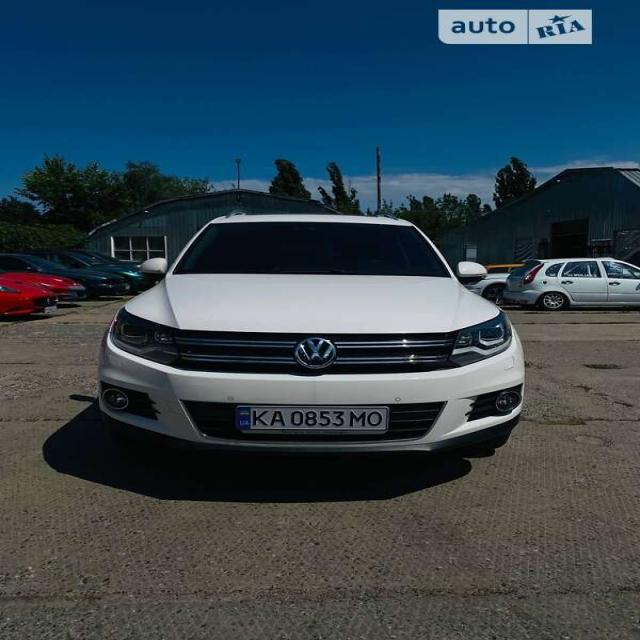plate: (233, 399, 394, 438)
